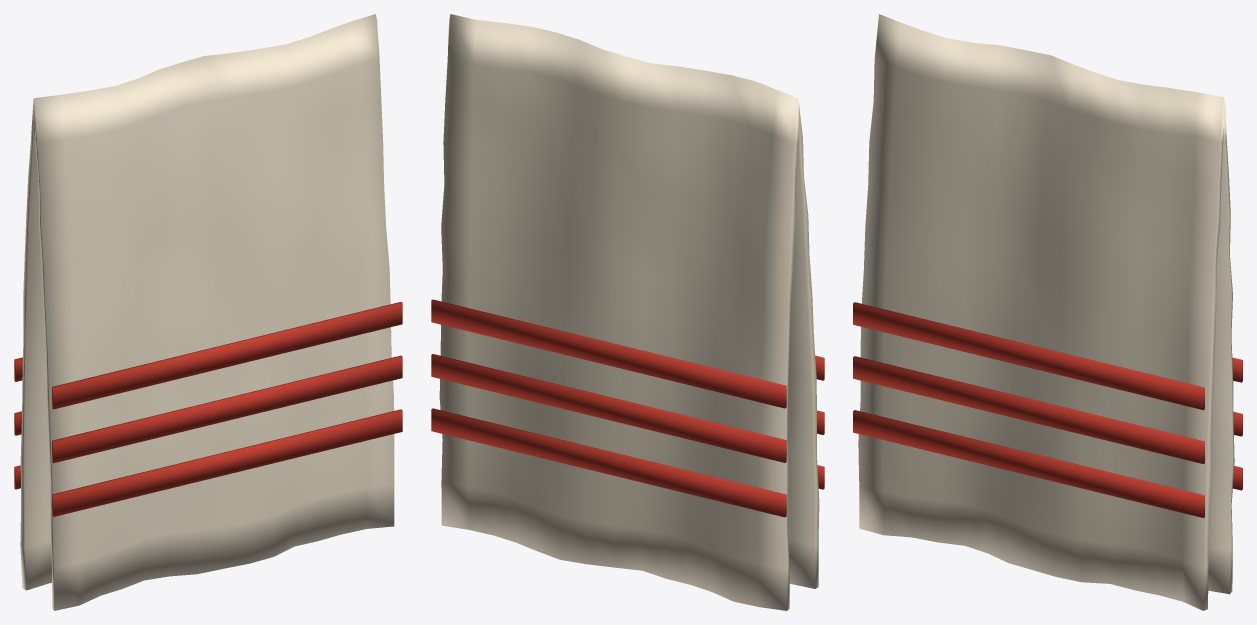
File: decor-dishtowel.glb
The picture shows the model from 3 angles, left to right: view 1: azimuth 30°, elevation 25°; view 2: azimuth 150°, elevation 25°; view 3: azimuth 330°, elevation 25°; orthographic projection.
Visible parts, largest first — view 1: DishTowel__Cloth, DishTowel__Stripes; view 2: DishTowel__Cloth, DishTowel__Stripes; view 3: DishTowel__Cloth, DishTowel__Stripes.
Part boxes in pixels (x1,y1,x2,y2): DishTowel__Cloth: (20,14,394,610); DishTowel__Stripes: (14,302,402,516); DishTowel__Cloth: (439,14,819,610); DishTowel__Stripes: (431,299,824,517); DishTowel__Cloth: (858,14,1234,610); DishTowel__Stripes: (853,302,1242,517).
Bounding box in the file's own units: 20.4 × 27.89 × 3.95.
